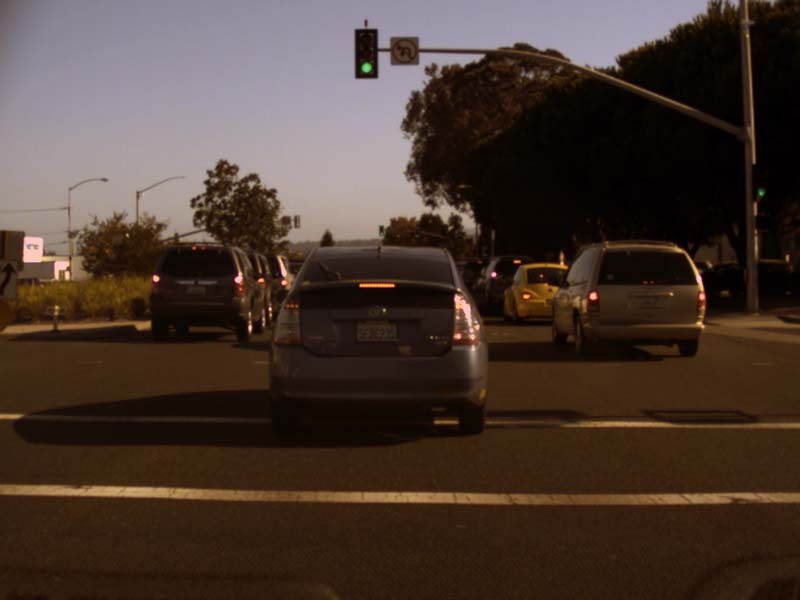Green: (353, 27, 378, 79), (753, 163, 770, 202), (414, 227, 420, 240), (379, 225, 384, 235)
